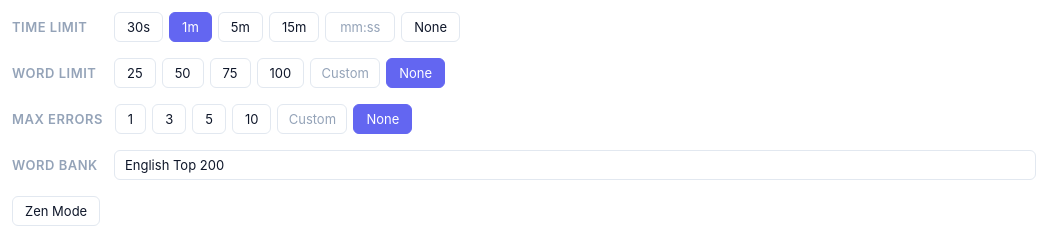
TestConfigOptions › normalizes a valid custom word count on blur
Type "042" into the field named "Custom word count" at (345, 73), box 310,58 -> 380,88
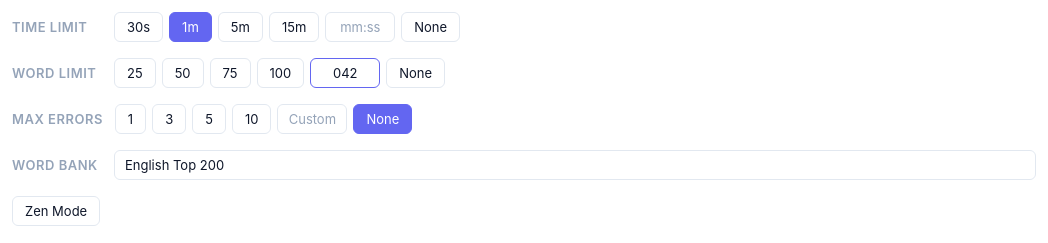
Press Tab
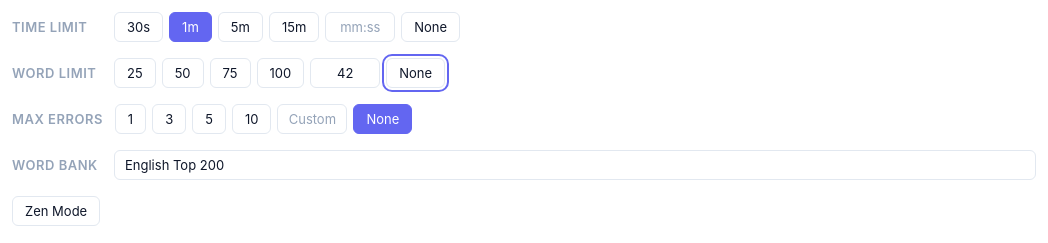
Expected: the field named "Custom word count" holds "42", 310,58 -> 380,88
